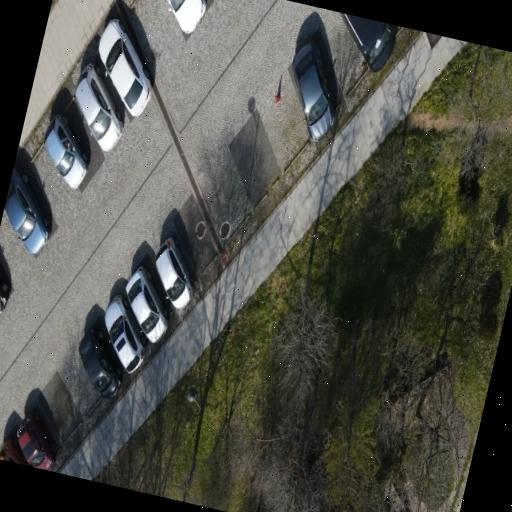car: (99, 18, 151, 116), (293, 39, 335, 141), (75, 62, 123, 151), (5, 167, 51, 254), (105, 295, 147, 373), (126, 266, 169, 341), (45, 114, 89, 187), (342, 13, 396, 71), (79, 330, 122, 398), (156, 237, 194, 308), (18, 412, 58, 470), (169, 0, 206, 32), (0, 438, 32, 466), (0, 273, 10, 313)
